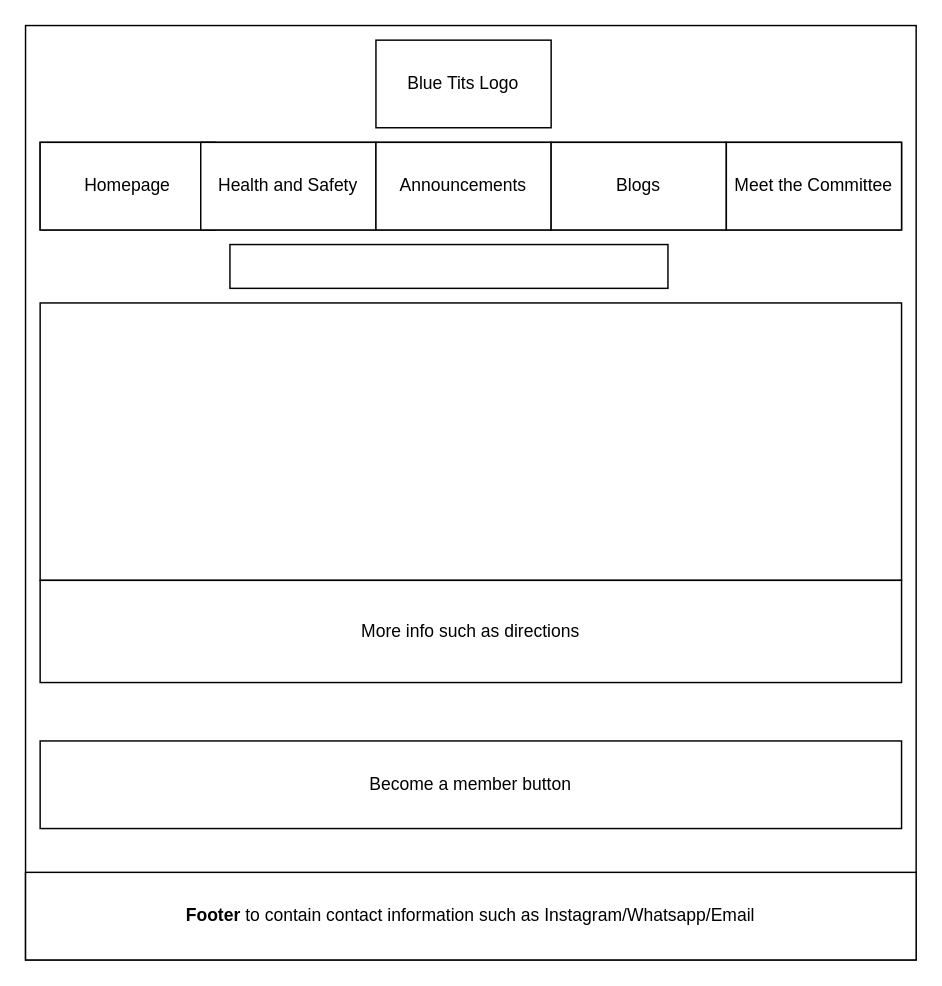
Some shapes in this 942 by 986 pixel diagram are drawn without their labels. The shapes that lost their labels are listed below. From the top down, each one's centre as x and y in pixels, then its label:
At [448,265]: "This week's swim location".
At [470,440]: "Picture of swim location".
